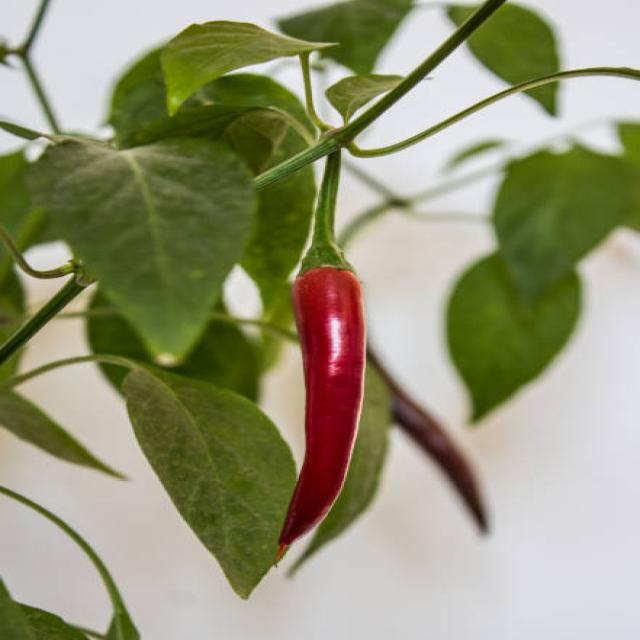Ripe: (280, 267, 364, 553)
